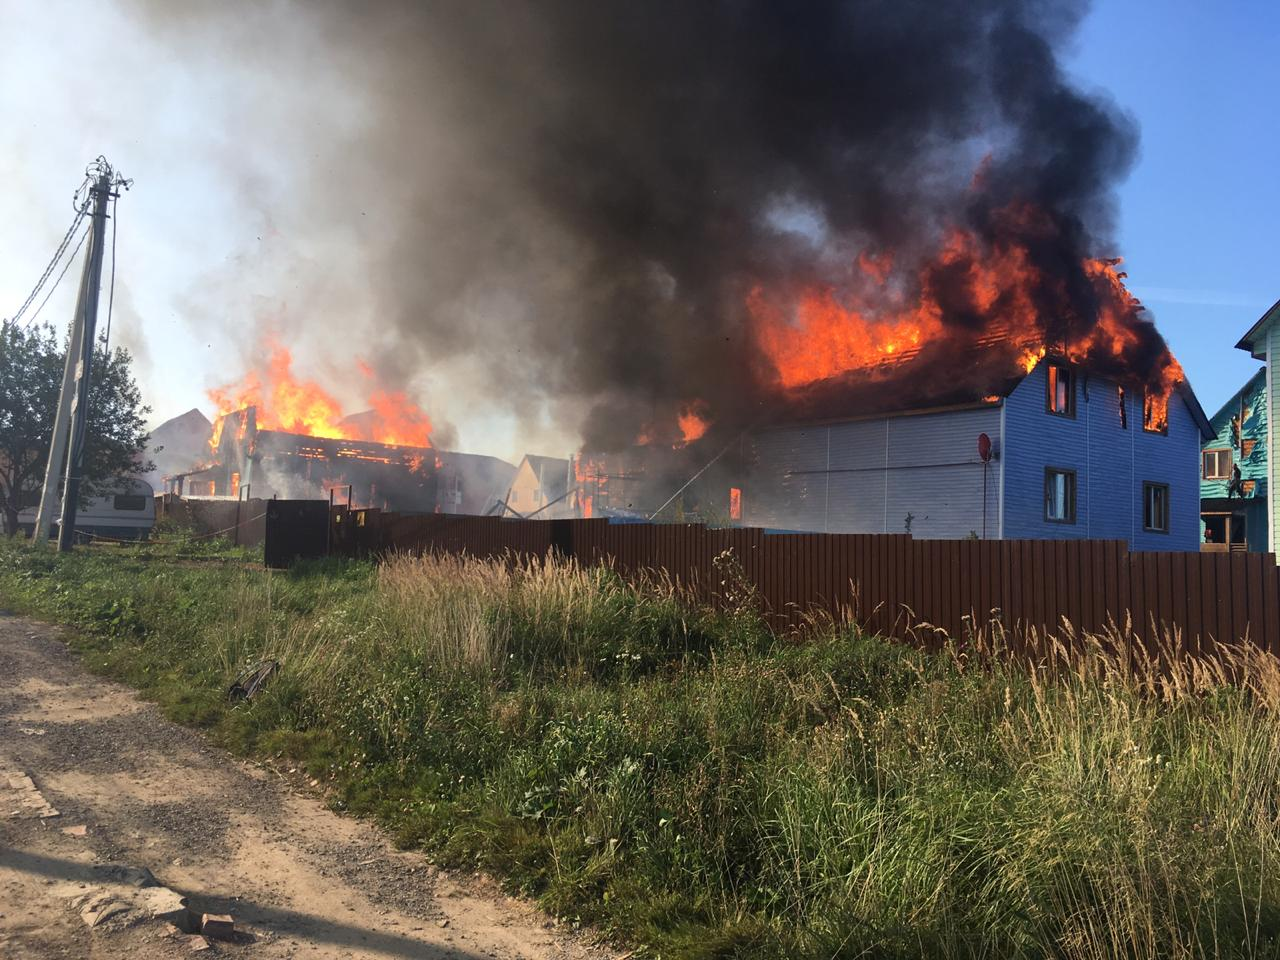fire: (134, 1, 1157, 481)
